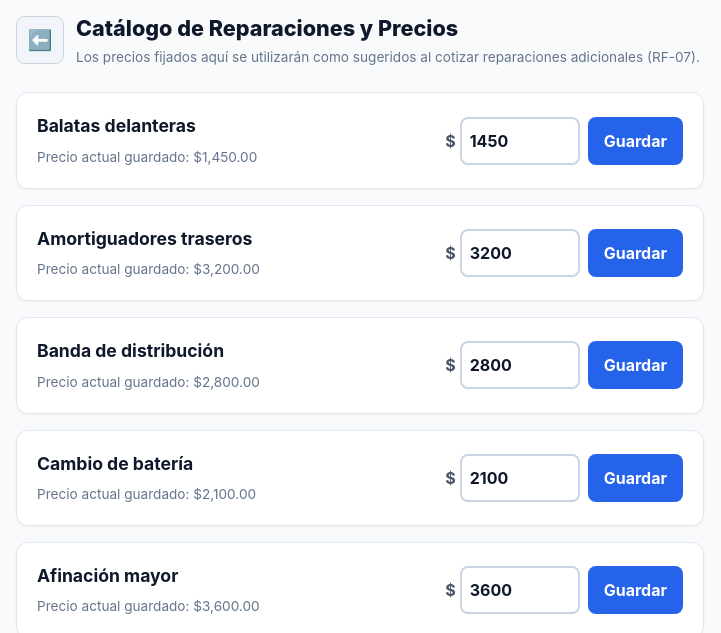
UI Taller (Spec 001 - T8) › CatalogEditor › permite al jefe modificar los precios sugeridos del catálogo (RF-07)
Expected: the heading "Balatas delanteras" is shown, [37, 115, 196, 136]
Step 1. Replace the text in the number field named "precio sugerido para balatas delanteras" in the row of "$1,450.00" with "1750" → (520, 141), box [460, 117, 580, 165]
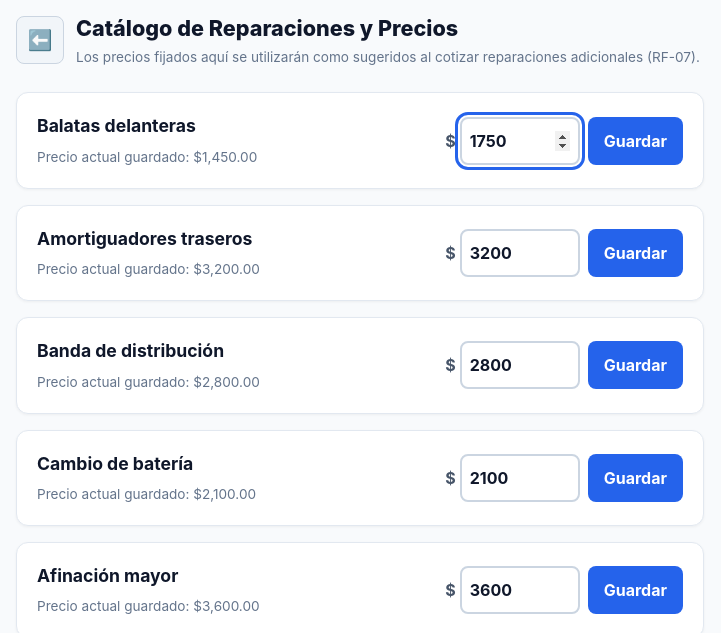
Step 2. Click the button with aria-label "guardar precio para balatas delanteras" → (635, 141), box [588, 117, 683, 165]
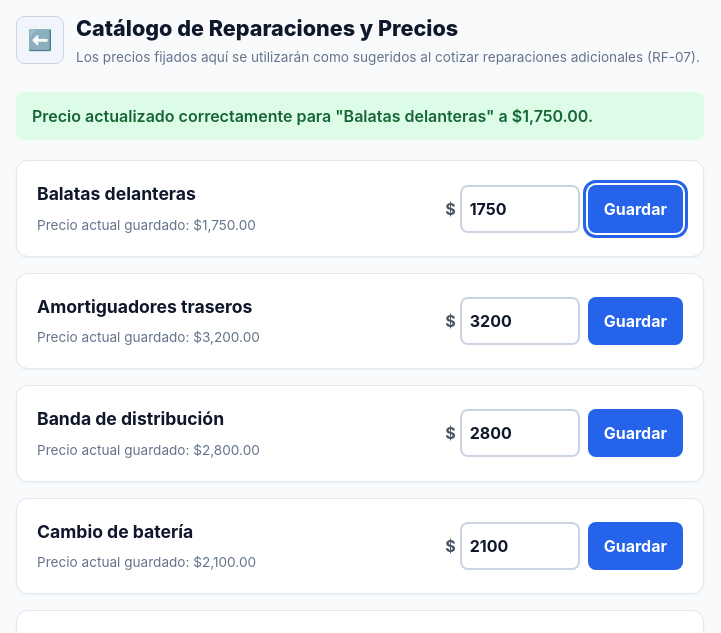
Expected: the text "Precio actualizado correctamente para \"Balatas delanteras\" a $1,750.00." is shown, [16, 92, 704, 140]
